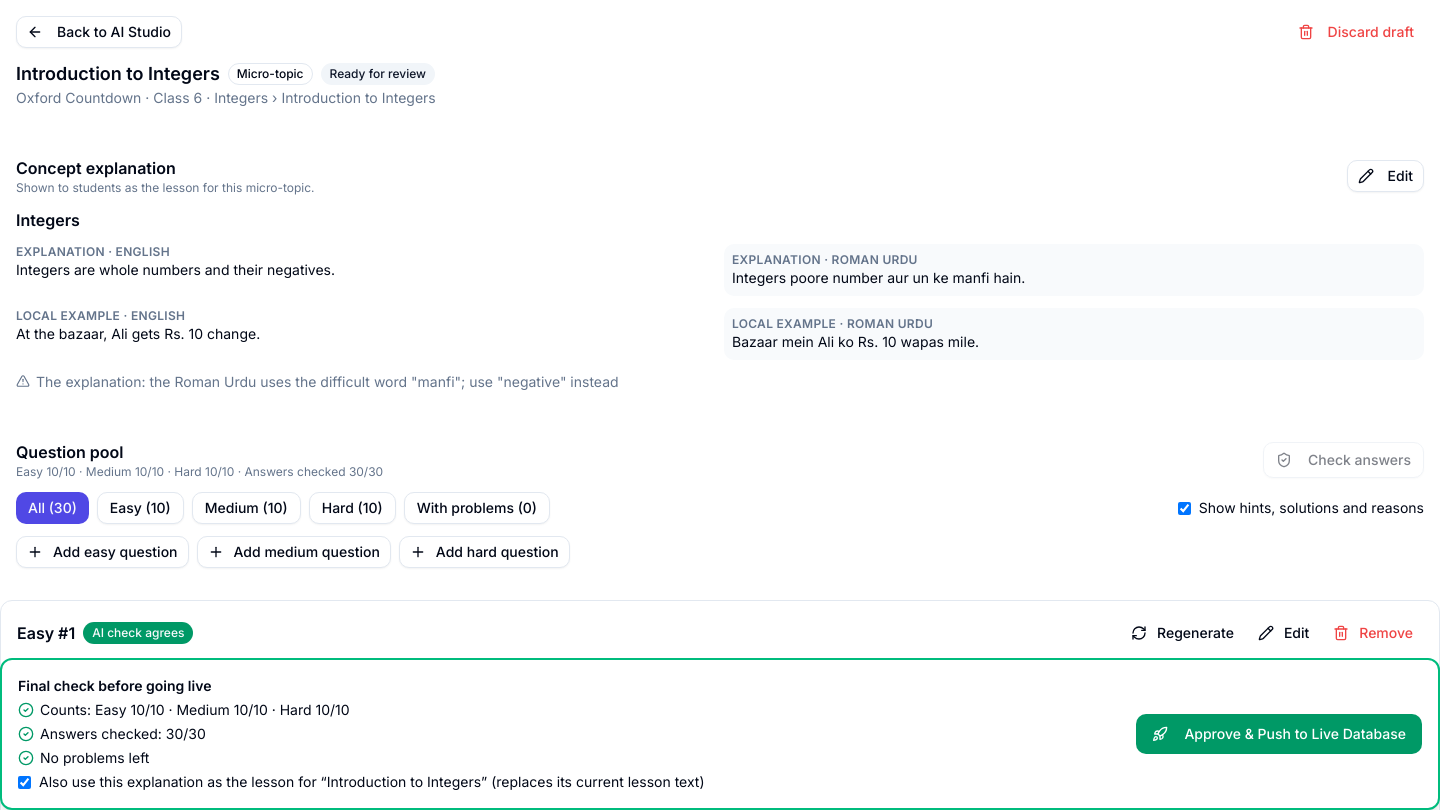
Test: AI draft review (Rule C) › still reports a successful approval when the reload afterwards fails
Click the button "Approve & Push to Live Database" at (1279,734), box [1136, 714, 1422, 754]
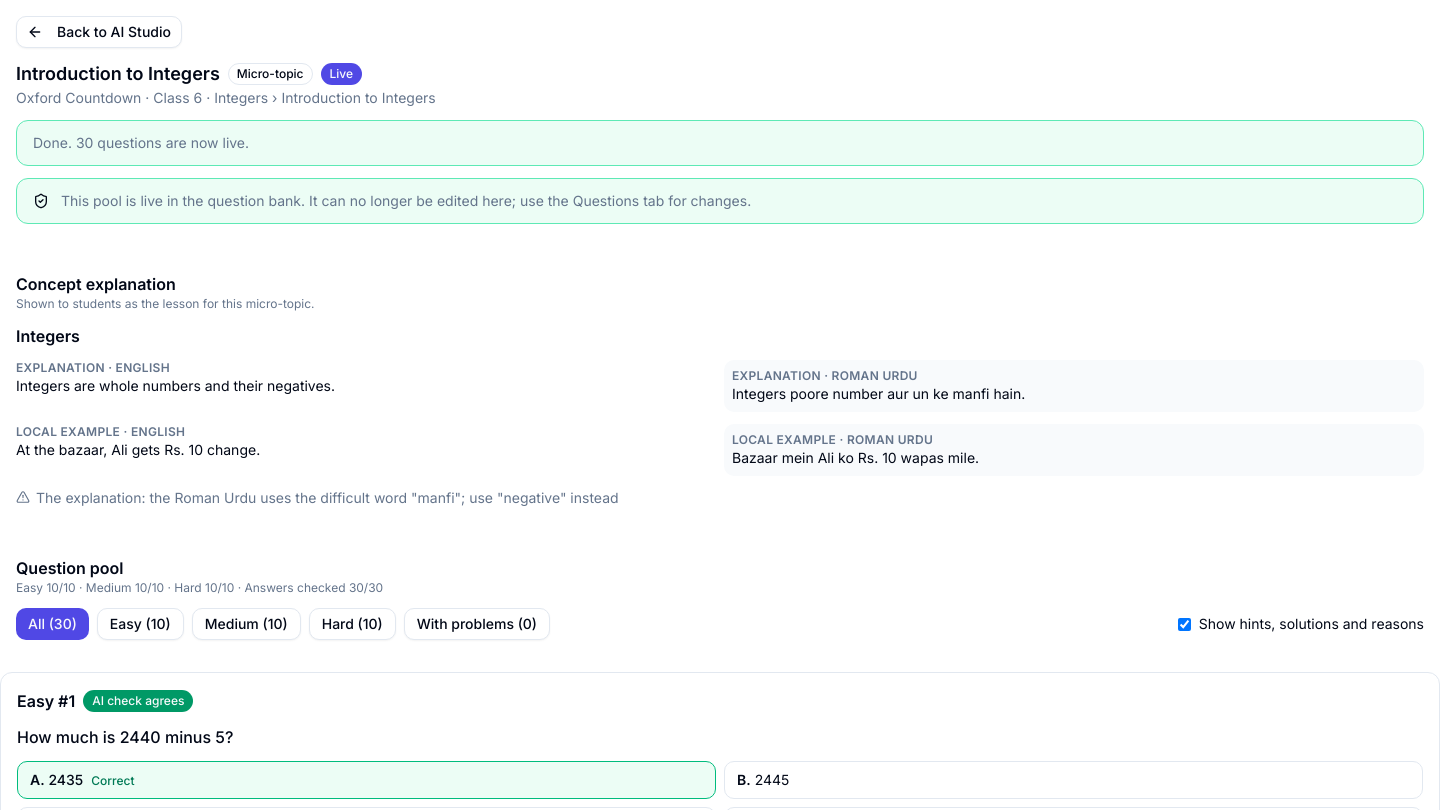
Expected: the text "Done. 30 questions are now live." is shown, [33, 134, 249, 151]
Expected: the text "Live" is shown, [320, 63, 362, 85]
